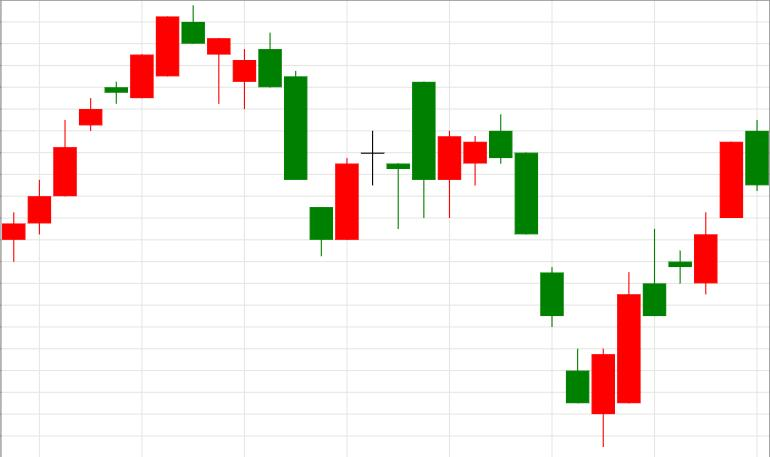bullish_engulfing_rise: (489, 114, 615, 446)
